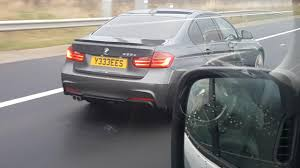number_plate: (85, 50, 131, 73)
